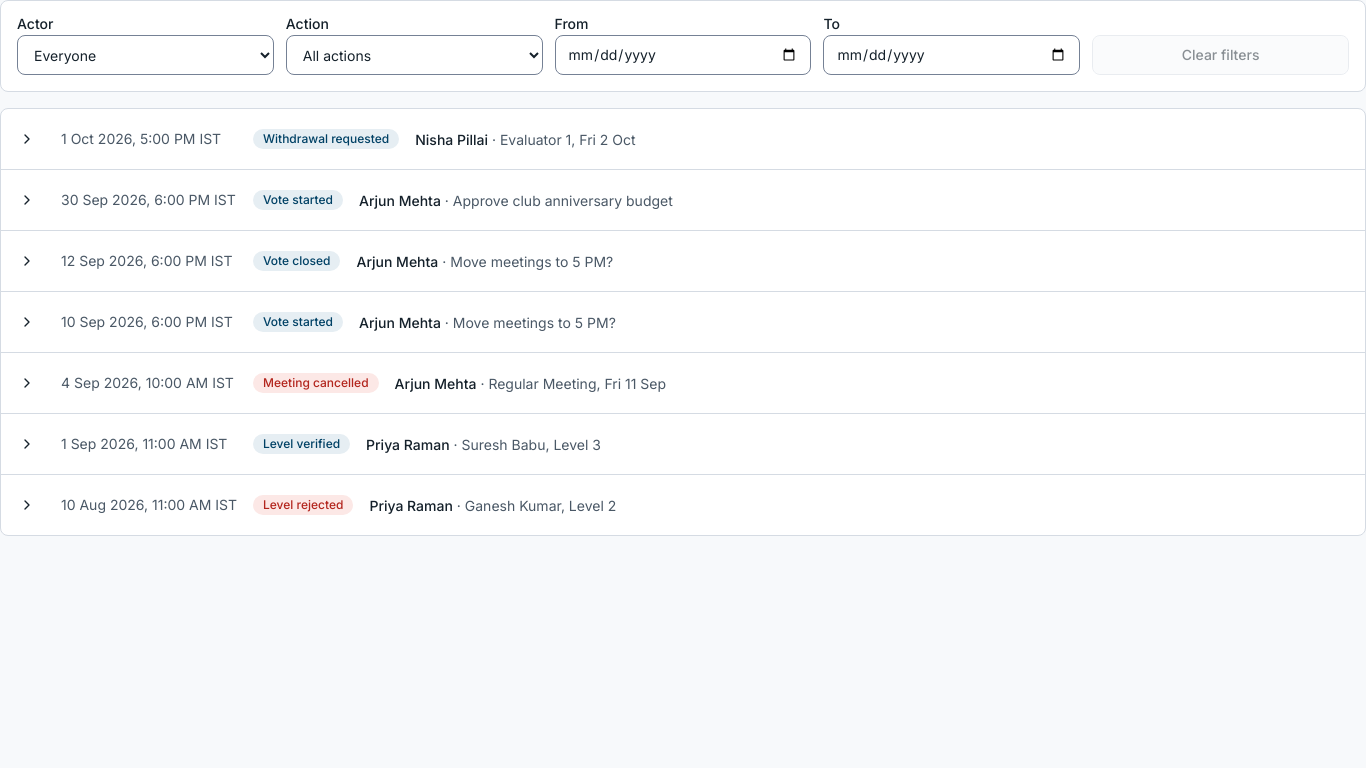
Test case: S-16 Audit log › expanding a row shows a before and after table, not JSON
Click the button named "Show before and after" next to "10 Aug 2026, 11:00 AM". click: click(27, 505)
box: [9,487,45,523]
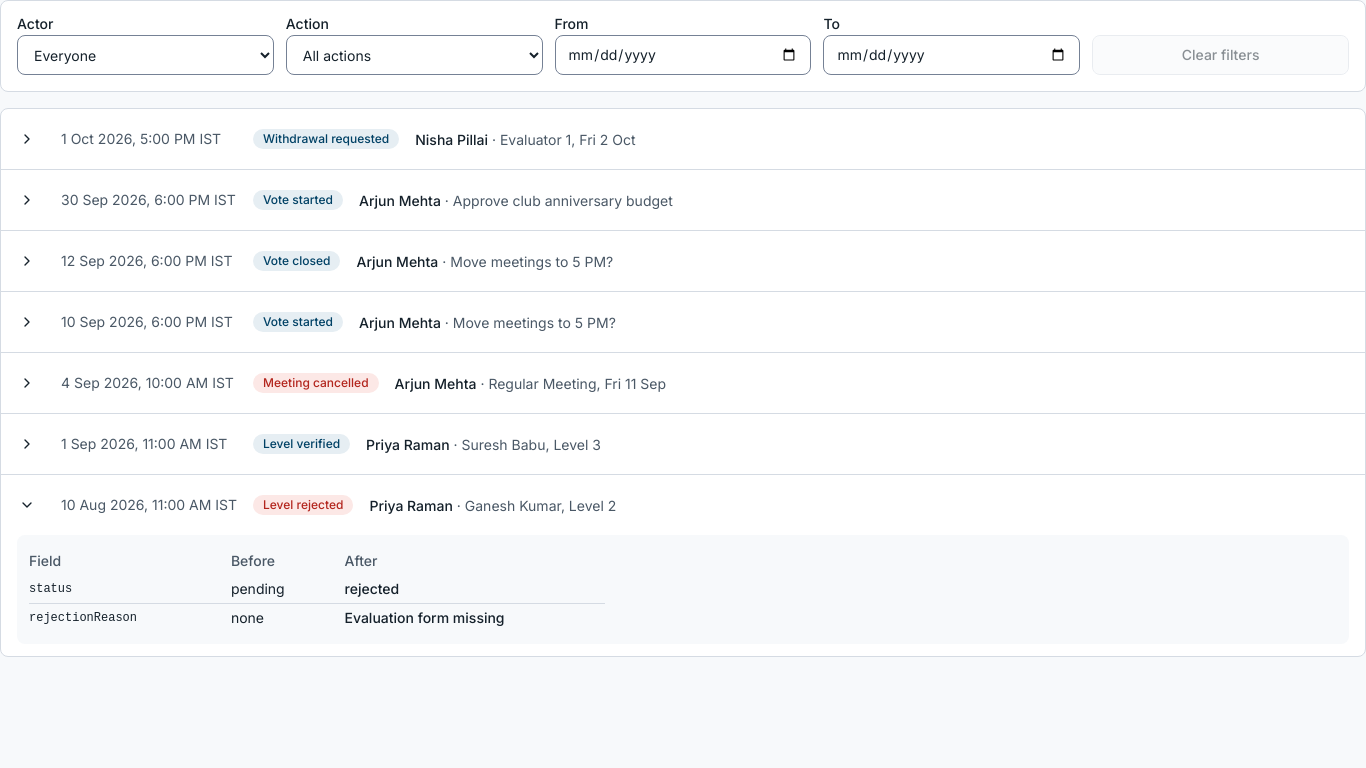
Now the button named "Hide before and after" next to "10 Aug 2026, 11:00 AM" is expanded, box [9,487,45,523]
